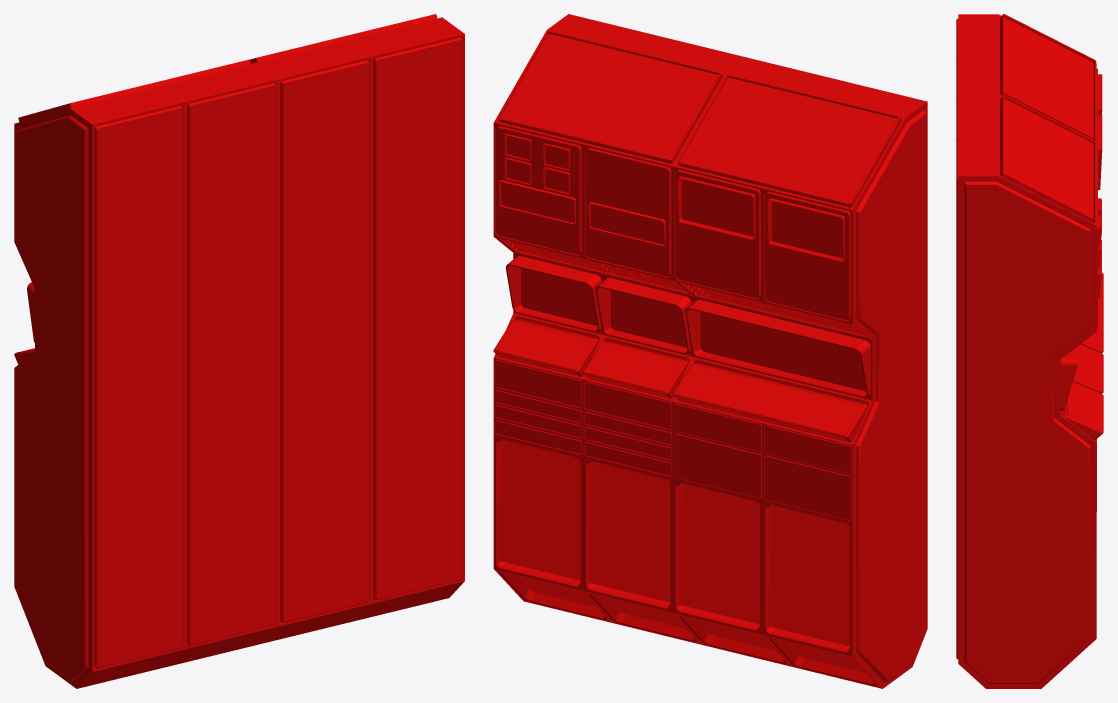
Rendered from Terminal_8.fbx.
The picture shows the model from 3 angles, left to right: view 1: azimuth 30°, elevation 25°; view 2: azimuth 150°, elevation 25°; view 3: azimuth 270°, elevation 25°; orthographic projection. The views are drawn at different scales.
Visible parts, largest first — view 1: L11:pCube75; view 2: L11:pCube75; view 3: L11:pCube75.
Part boxes in pixels (x1,y1,x2,y2): L11:pCube75: (14, 14, 464, 688); L11:pCube75: (493, 14, 927, 688); L11:pCube75: (956, 14, 1103, 688).
Size of the model in its own units: 192 by 279 by 72.41.
